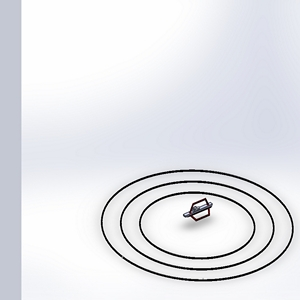circle: (96, 162, 298, 288)
submarine: (181, 196, 218, 227)
